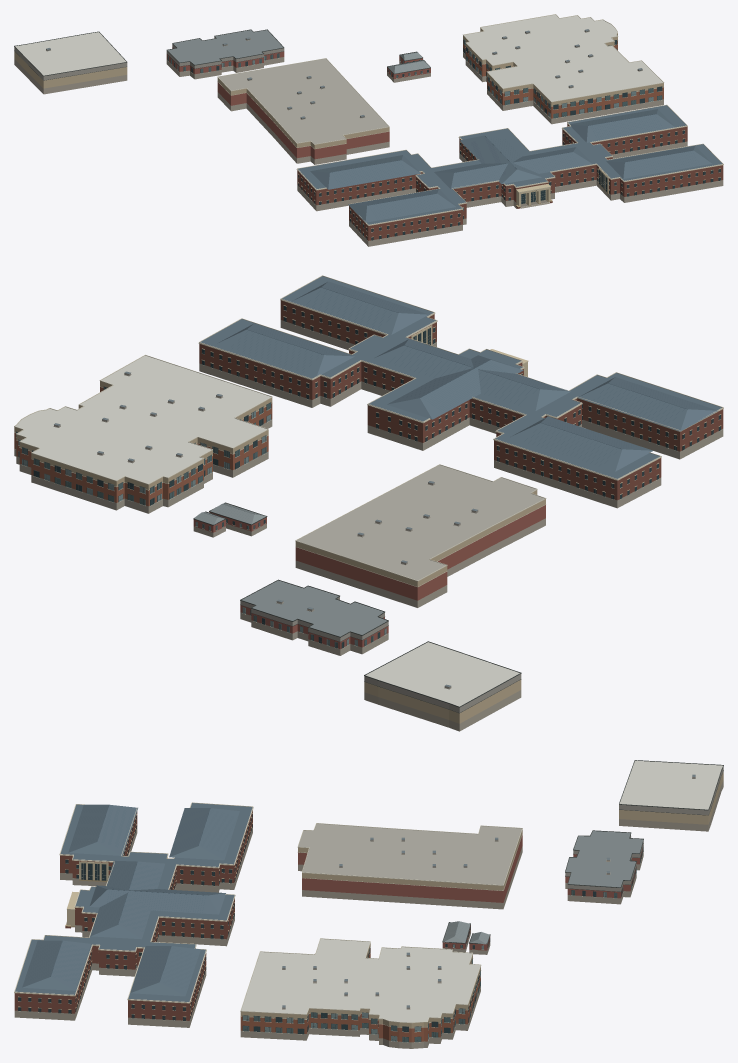
Rendered from oxford-high.glb.
The picture shows the model from 3 angles, top to bottom: view 1: azimuth 30°, elevation 25°; view 2: azimuth 150°, elevation 25°; view 3: azimuth 270°, elevation 25°; orthographic projection. The views are drawn at different scales.
Parts seen in each view (by area): view 1: 598588249 | Roof, 598588249 | high-portico 1, 1243705430 | Roof, 598588249 | Facades, 1486533054 | Roof, 1486533055 | Roof, 1243705430 | Shell and foundation, 1486533054 | Shell and foundation, 1486533055 | Facades, 1486533056 | Shell and foundation; view 2: 598588249 | Roof, 598588249 | high-portico 1, 1243705430 | Roof, 1486533054 | Roof, 598588249 | Facades, 1243705430 | Shell and foundation, 1486533055 | Roof, 1486533054 | Shell and foundation, 1486533056 | Shell and foundation, 1486533055 | Facades; view 3: 598588249 | Roof, 1243705430 | Roof, 598588249 | high-portico 1, 1486533054 | Roof, 598588249 | Facades, 1486533055 | Roof, 1486533054 | Shell and foundation, 1243705430 | Shell and foundation, 1486533056 | Shell and foundation, 1486533055 | Facades.
Part boxes in pixels (bbox=[...]): 598588249 | Roof: bbox=[298, 105, 722, 224]; 598588249 | high-portico 1: bbox=[14, 31, 723, 246]; 1243705430 | Roof: bbox=[14, 14, 662, 119]; 598588249 | Facades: bbox=[14, 14, 723, 240]; 1486533054 | Roof: bbox=[218, 58, 388, 143]; 1486533055 | Roof: bbox=[167, 30, 430, 73]; 1243705430 | Shell and foundation: bbox=[14, 28, 663, 148]; 1486533054 | Shell and foundation: bbox=[166, 47, 430, 159]; 1486533055 | Facades: bbox=[167, 39, 662, 118]; 1486533056 | Shell and foundation: bbox=[463, 40, 663, 118]; 598588249 | Roof: bbox=[200, 276, 721, 478]; 598588249 | high-portico 1: bbox=[14, 300, 723, 731]; 1243705430 | Roof: bbox=[15, 355, 521, 712]; 1486533054 | Roof: bbox=[226, 465, 544, 580]; 598588249 | Facades: bbox=[14, 275, 723, 713]; 1243705430 | Shell and foundation: bbox=[14, 381, 545, 723]; 1486533055 | Roof: bbox=[194, 503, 387, 636]; 1486533054 | Shell and foundation: bbox=[193, 505, 545, 649]; 1486533056 | Shell and foundation: bbox=[14, 387, 272, 506]; 1486533055 | Facades: bbox=[16, 387, 386, 648]; 598588249 | Roof: bbox=[15, 803, 252, 1001]; 1243705430 | Roof: bbox=[241, 760, 723, 1022]; 598588249 | high-portico 1: bbox=[14, 776, 723, 1048]; 1486533054 | Roof: bbox=[298, 823, 521, 940]; 598588249 | Facades: bbox=[14, 760, 723, 1042]; 1486533055 | Roof: bbox=[443, 831, 643, 944]; 1486533054 | Shell and foundation: bbox=[298, 835, 643, 950]; 1243705430 | Shell and foundation: bbox=[240, 772, 723, 1027]; 1486533056 | Shell and foundation: bbox=[240, 948, 480, 1042]; 1486533055 | Facades: bbox=[243, 846, 643, 1042].
Bounding box in the file's own units: 246 × 14.63 × 274.
